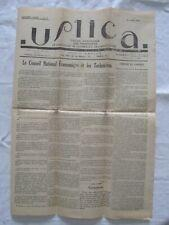paper: (13, 8, 156, 220)
